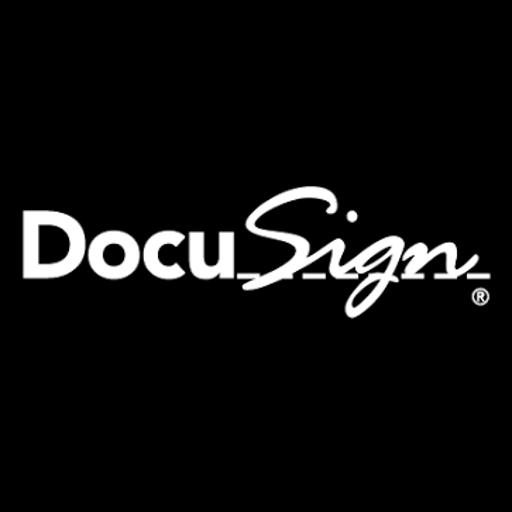DocuSign: (0, 158, 512, 354)
